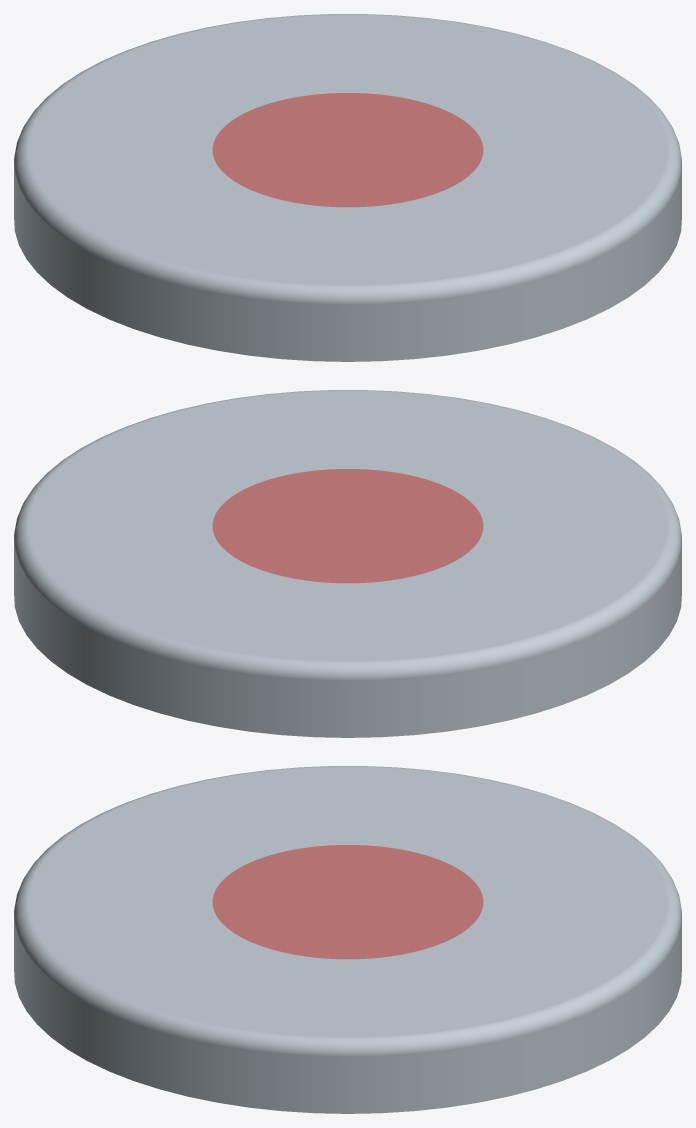
Rendered from step_03.glb.
3 renders of one model, top to bottom at view 1: azimuth 30°, elevation 25°; view 2: azimuth 150°, elevation 25°; view 3: azimuth 270°, elevation 25°, orthographic.
Visible parts, largest first — view 1: part__lid, removed__lid; view 2: part__lid, removed__lid; view 3: part__lid, removed__lid.
Boxes of the visible parts, left/top/right/bottom form: part__lid: left=14, top=14, right=681, bottom=361; removed__lid: left=212, top=93, right=483, bottom=207; part__lid: left=14, top=390, right=681, bottom=737; removed__lid: left=212, top=469, right=483, bottom=583; part__lid: left=14, top=766, right=681, bottom=1113; removed__lid: left=212, top=845, right=483, bottom=959.
Size of the model in its own units: 180 by 21 by 180.
